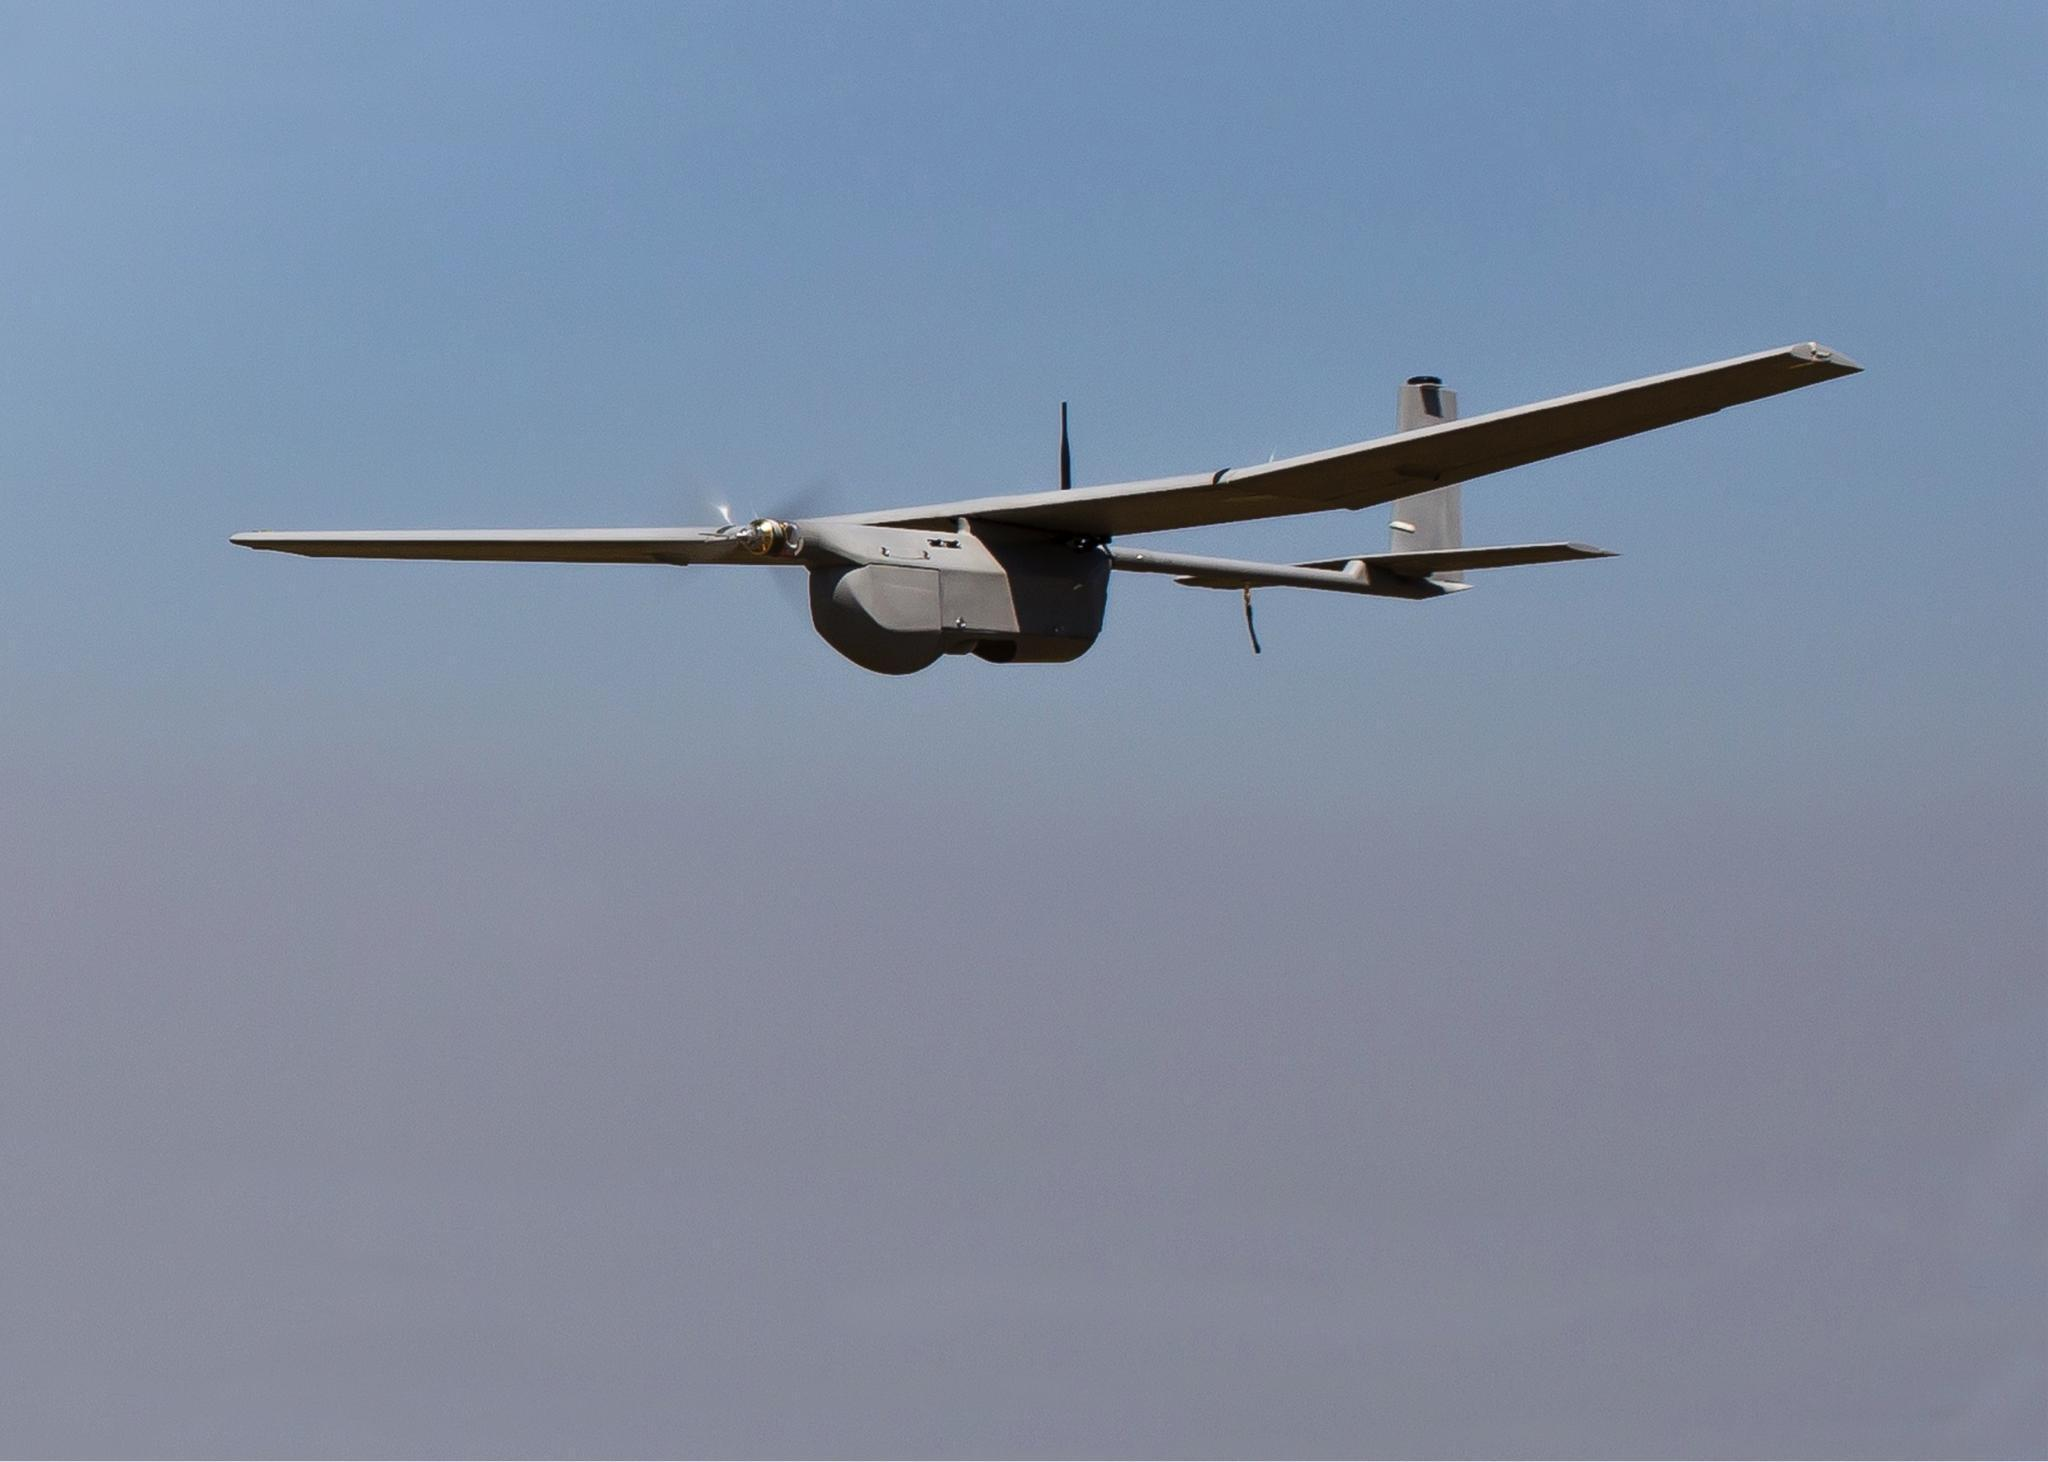Airplane: (179, 278, 1872, 725)
